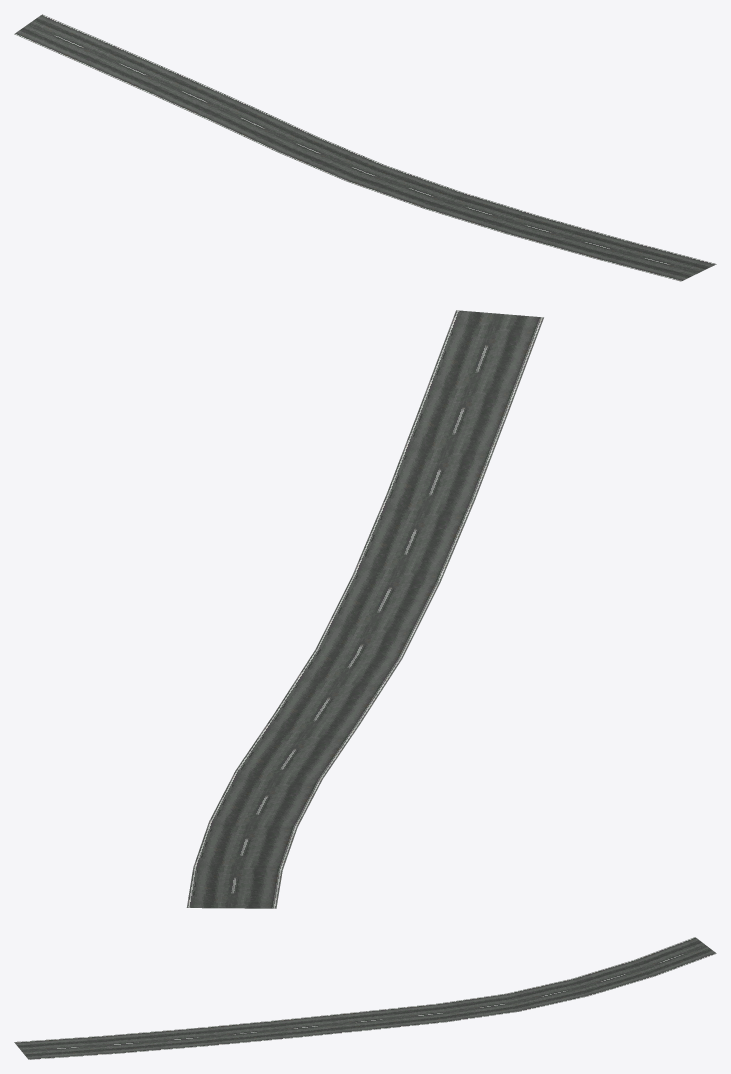
Rendered from lodcuntwroad72.obj.
3 views of the same model, one above another, from view 1: azimuth 30°, elevation 25°; view 2: azimuth 150°, elevation 25°; view 3: azimuth 270°, elevation 25° (orthographic). The views are drawn at different scales.
Parts seen in each view (by area): view 1: LODcuntwroad72; view 2: LODcuntwroad72; view 3: LODcuntwroad72.
Boxes of the visible parts, bbox=[...] form: LODcuntwroad72: bbox=[14, 14, 716, 281]; LODcuntwroad72: bbox=[186, 310, 543, 908]; LODcuntwroad72: bbox=[14, 937, 716, 1059].
Bounding box in the file's own units: 75.2 × 7.09 × 188.
1 material, 1 textured.
